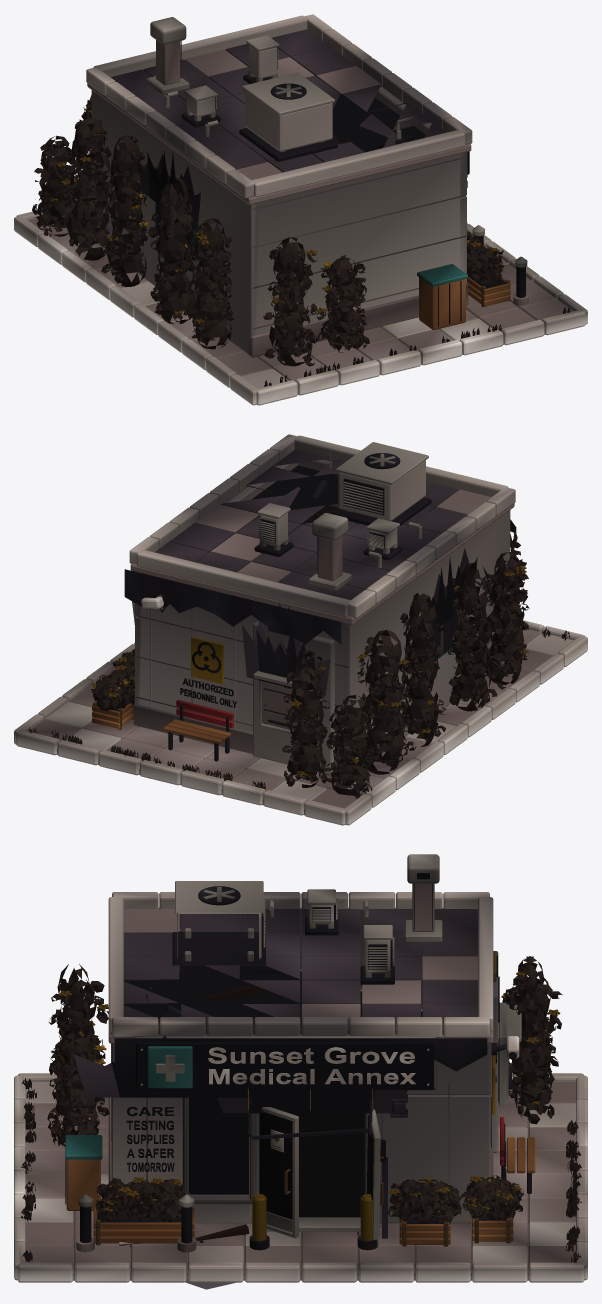
Rendered from model.burned.glb.
The picture shows the model from 3 angles, top to bottom: view 1: azimuth 30°, elevation 25°; view 2: azimuth 150°, elevation 25°; view 3: azimuth 270°, elevation 25°; orthographic projection. The views are drawn at different scales.
Parts seen in each view (by area): view 1: body, roof, interior; view 2: body, roof, interior, door_delivery, window_rear; view 3: body, roof, interior, window_front, window_door_L, door_main, door_main_right, door_delivery, object 12.
Boxes of the visible parts, left/top/right/bottom form: body: left=14, top=86, right=587, bottom=405; roof: left=86, top=14, right=472, bottom=204; interior: left=264, top=62, right=425, bottom=172; body: left=14, top=459, right=587, bottom=825; roof: left=129, top=434, right=515, bottom=624; interior: left=214, top=465, right=443, bottom=548; door_delivery: left=253, top=671, right=315, bottom=730; window_rear: left=425, top=615, right=458, bottom=658; body: left=14, top=951, right=587, bottom=1289; roof: left=108, top=854, right=493, bottom=1043; interior: left=124, top=931, right=443, bottom=1217; window_front: left=189, top=1097, right=248, bottom=1194; window_door_L: left=260, top=1113, right=292, bottom=1219; door_main: left=255, top=1107, right=298, bottom=1238; door_main_right: left=368, top=1109, right=383, bottom=1247; door_delivery: left=498, top=1004, right=521, bottom=1098; object 12: left=155, top=1055, right=405, bottom=1152.
Bounding box in the file's own units: 8.15 × 5.23 × 9.7.
